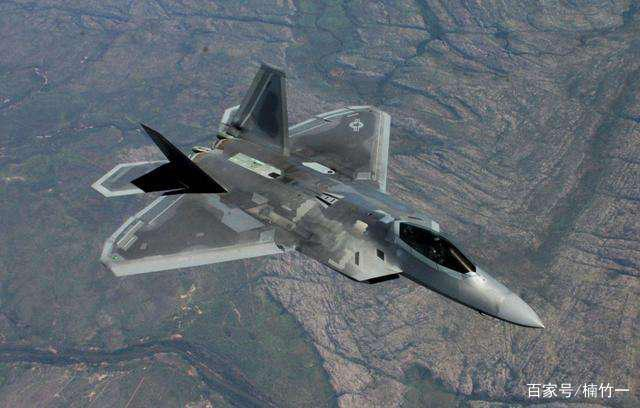airplane: (87, 56, 543, 335)
